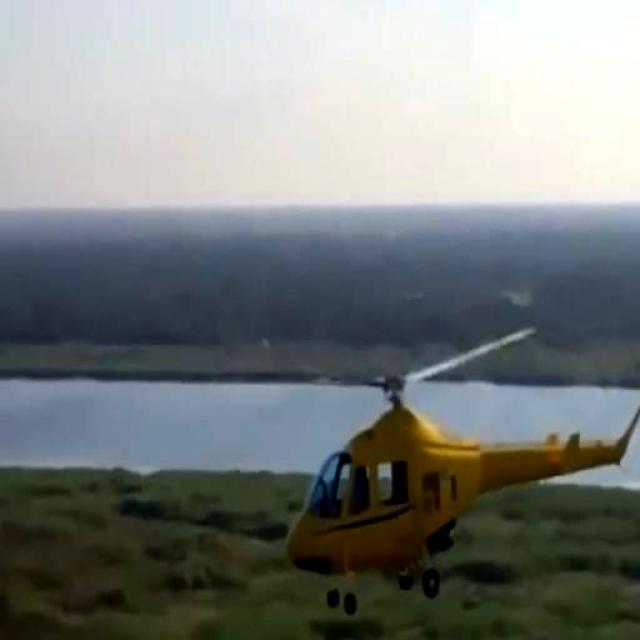drone: (288, 328, 640, 618)
